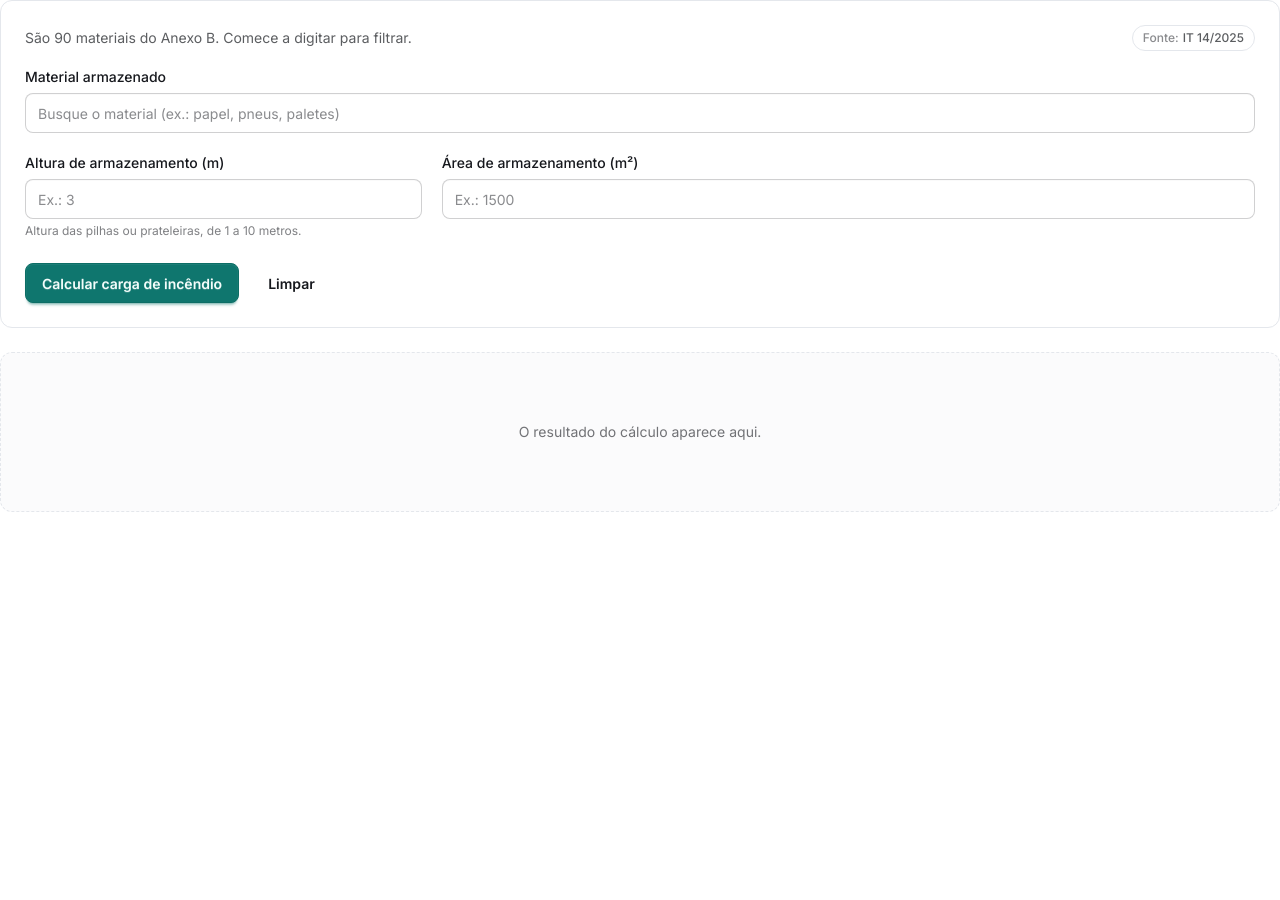
it: StorageCalculator › should reject a height outside the annex table
The width and height of the screenshot is (1280, 900).
Type "papel" into the search field labelled "Material armazenado" at (640, 113), box [25,93,1255,133]
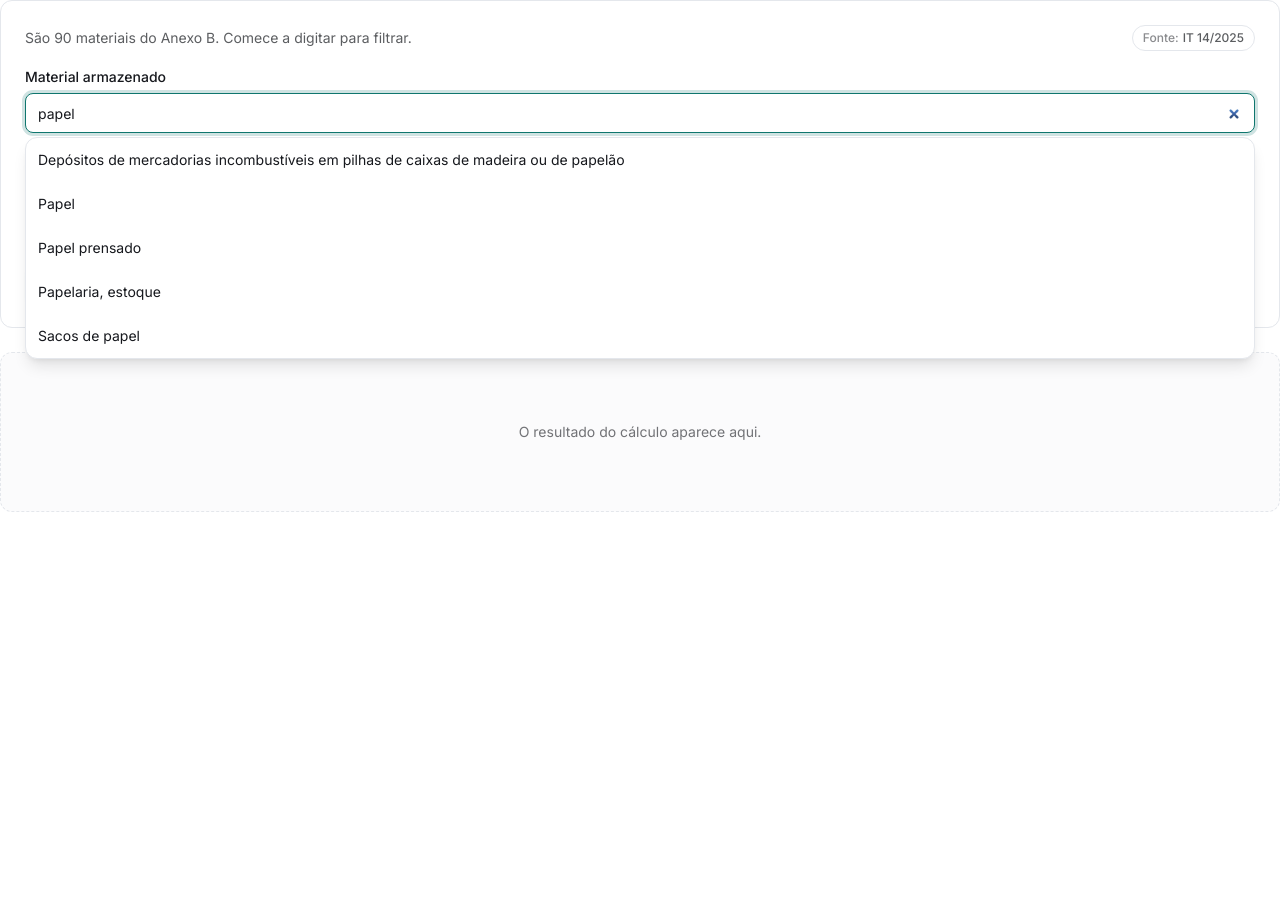
Click the button "Papel" at (56, 204), box [26,182,1254,226]
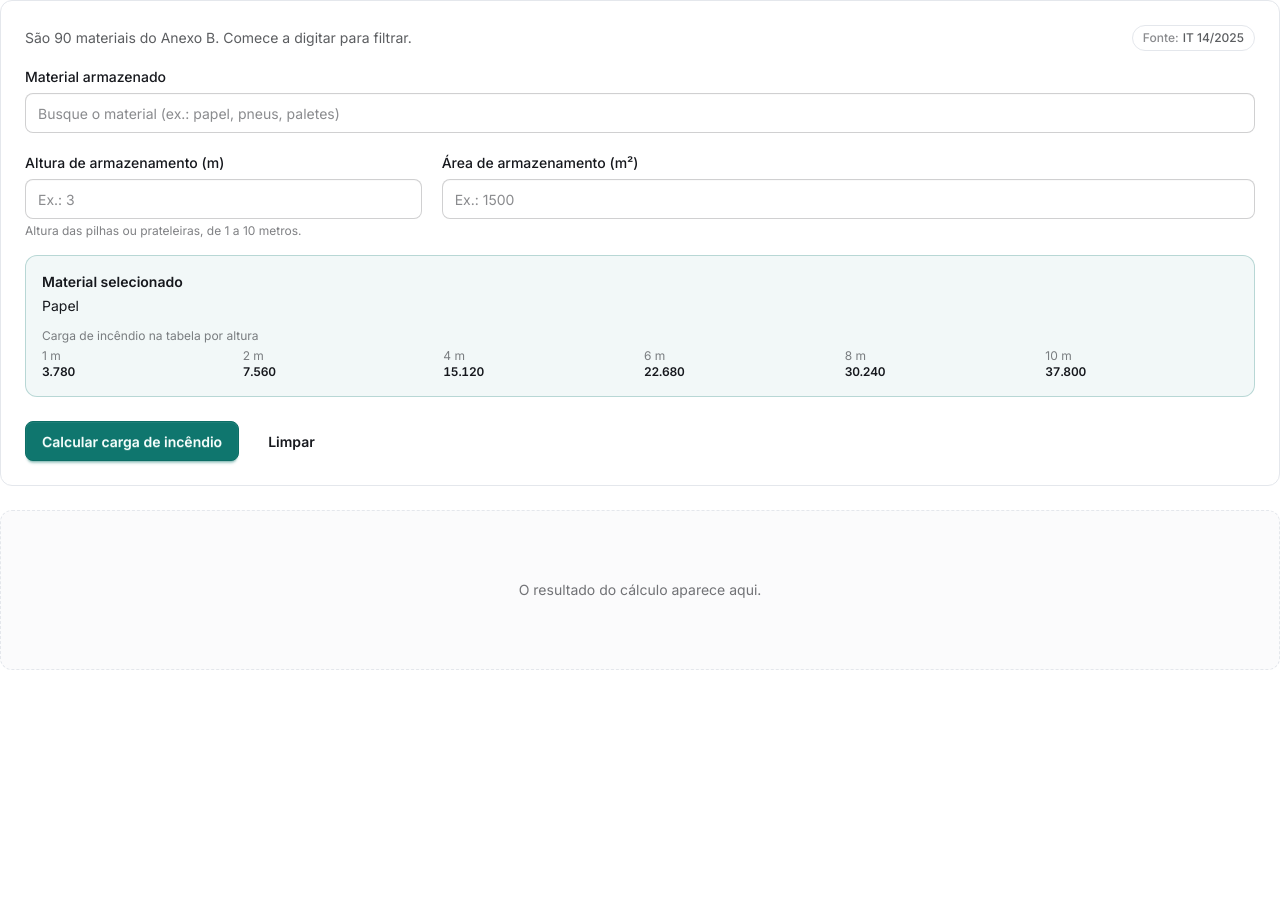
Type "12" into the field labelled "Altura de armazenamento (m)" at (223, 199), box [25,179,422,219]
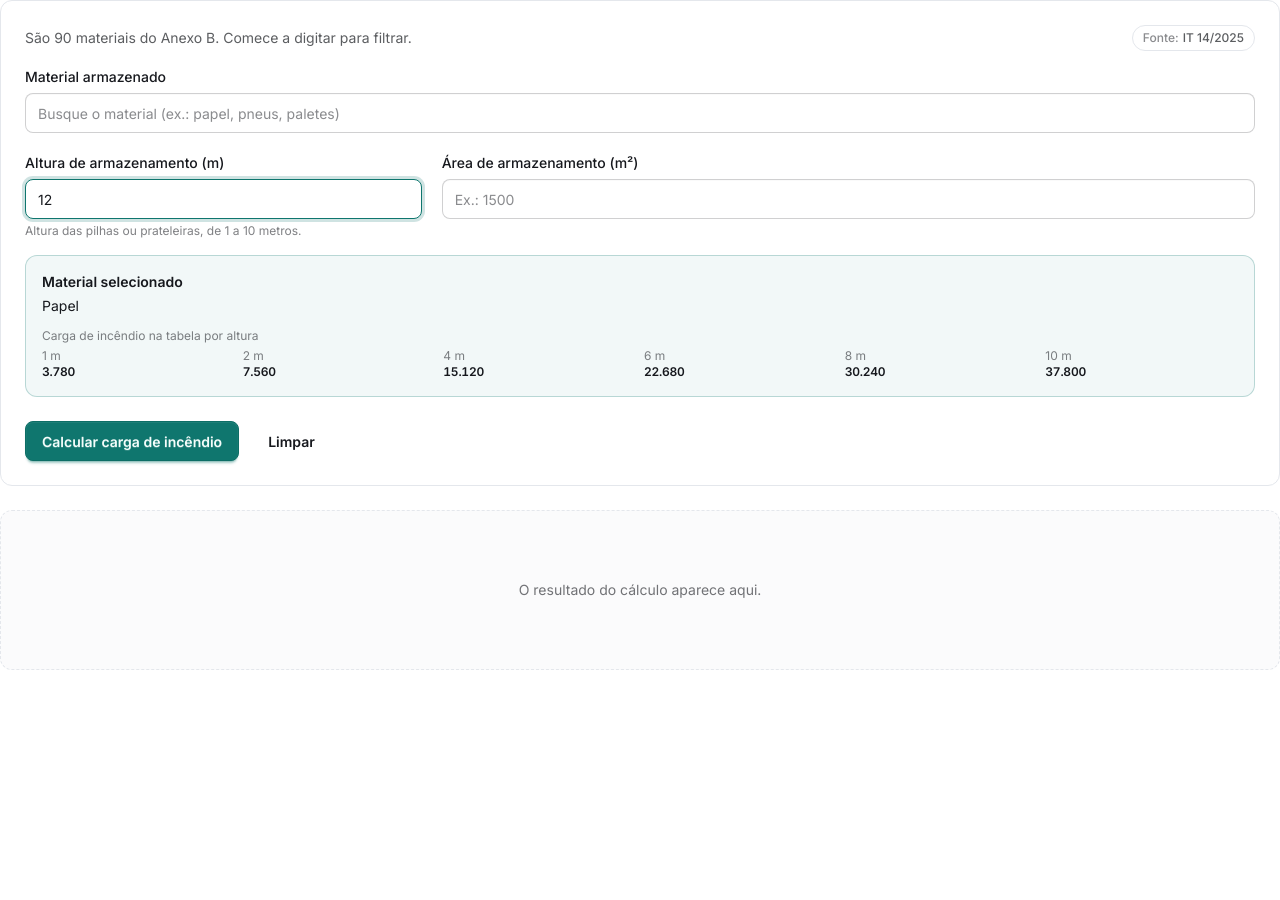
Type "100" into the field labelled "Área de armazenamento (m²)" at (848, 199), box [442,179,1255,219]
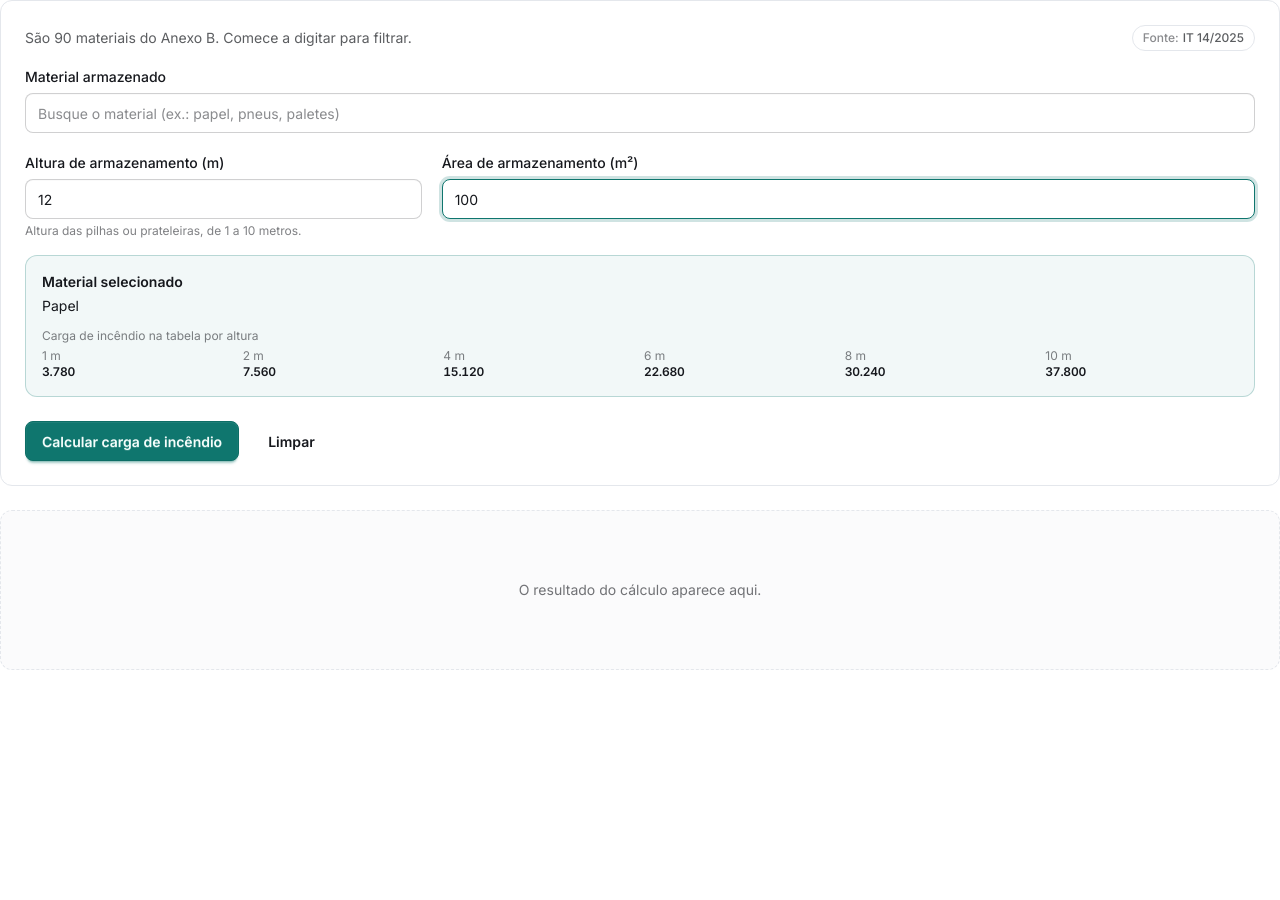
Click the button "Calcular carga de incêndio" at (132, 441), box [25,421,239,461]
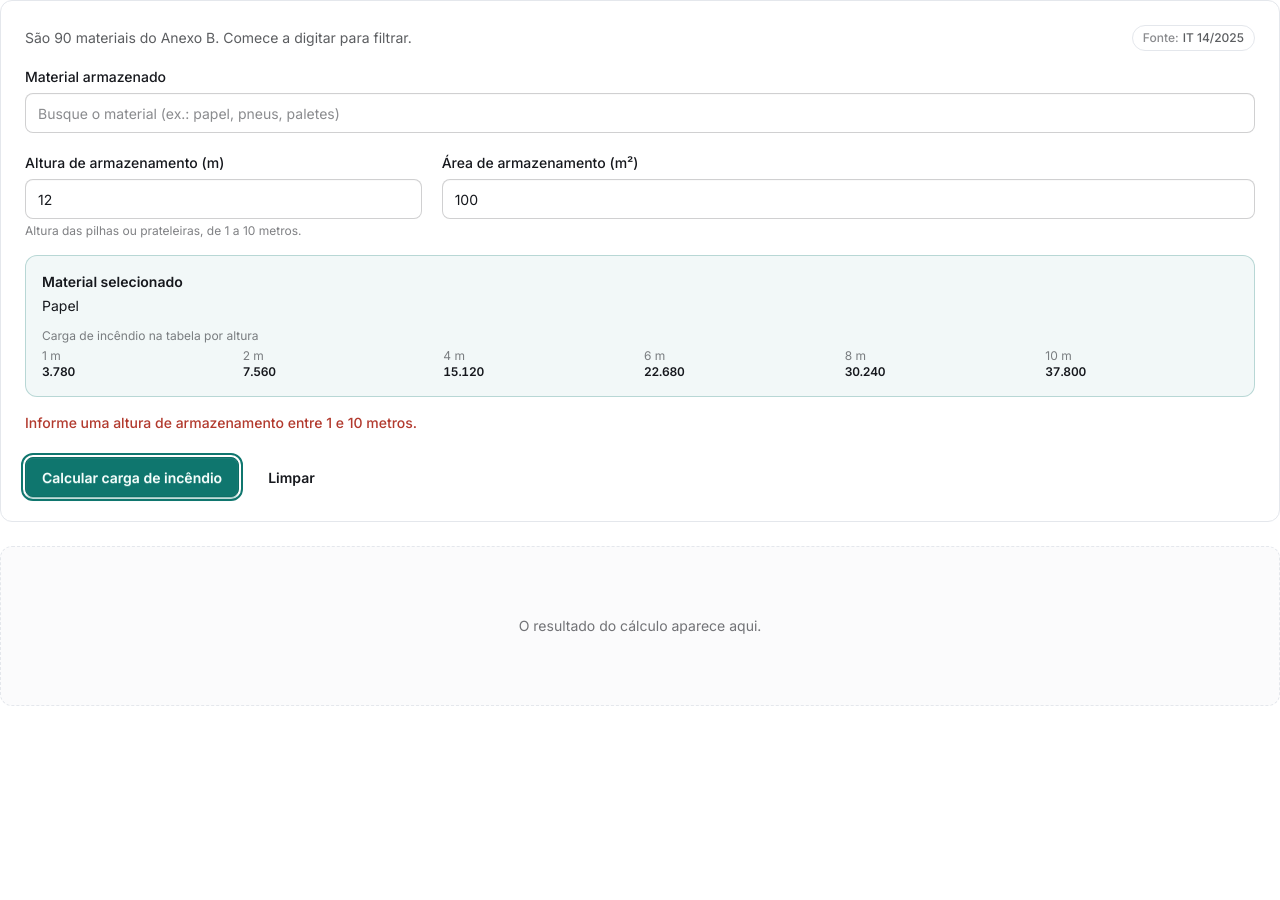
Expected: the text "Informe uma altura de armazenamento entre 1 e 10 metros." is shown, [25,414,417,431]
